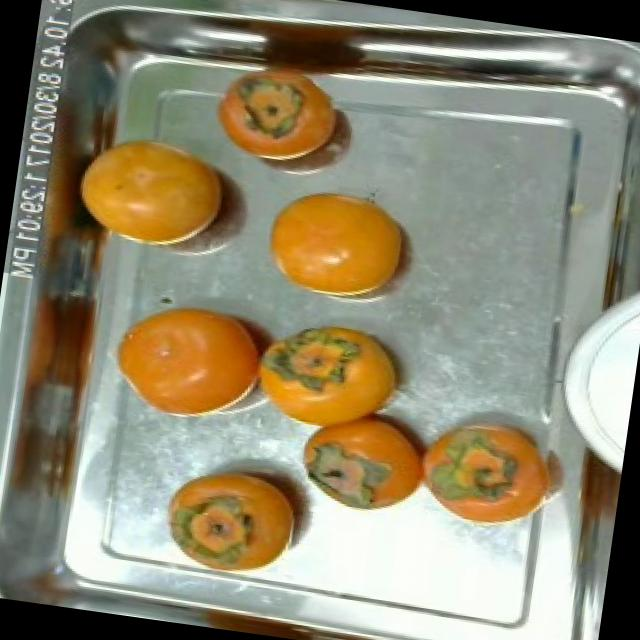Fruit: (94, 278, 296, 442), (55, 110, 248, 273), (404, 397, 586, 545), (249, 171, 430, 313), (150, 448, 327, 585), (281, 390, 450, 530), (196, 62, 368, 186)
